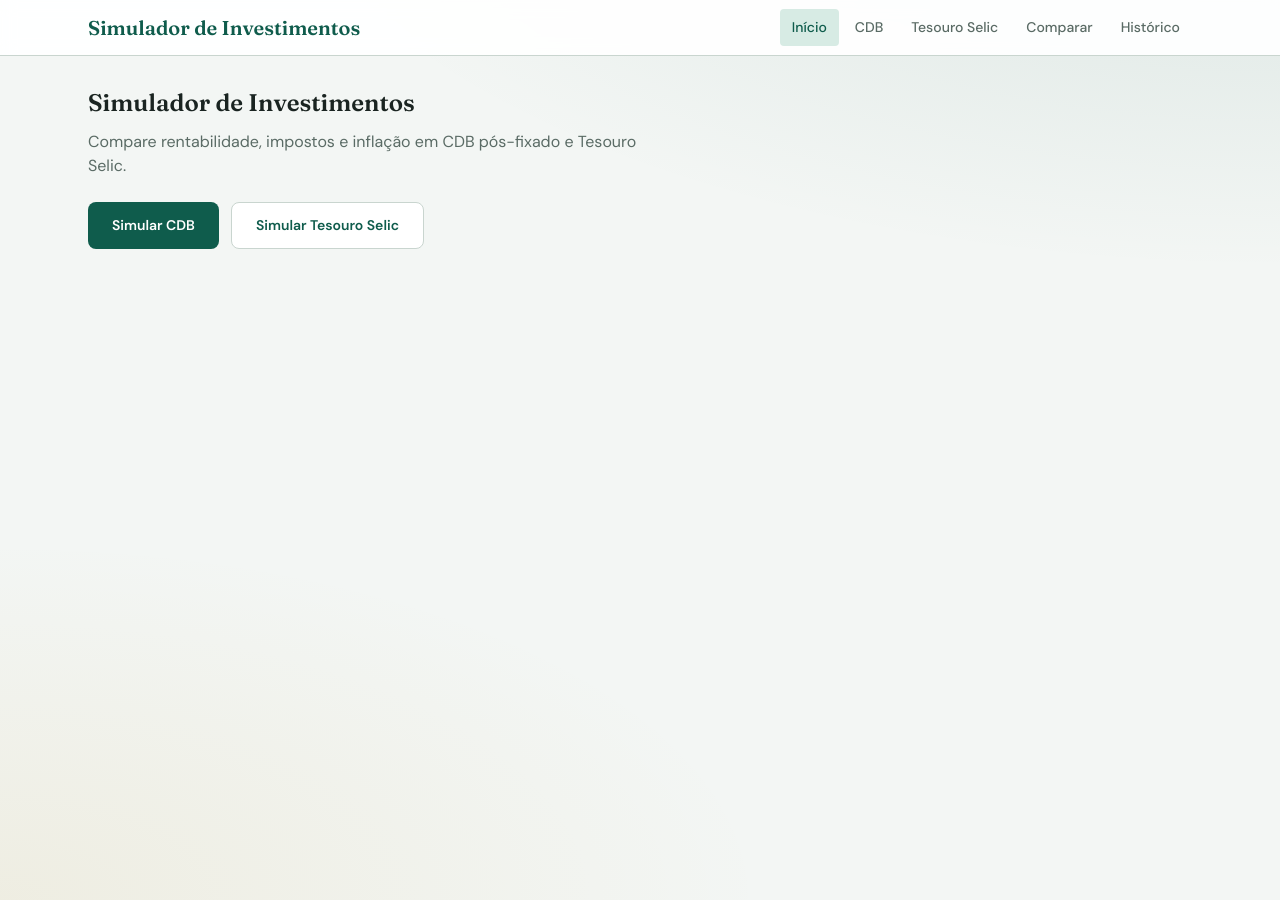
Scenario: App routing › navigates to the CDB stub page
Click the link "Simular CDB": (153,226) [88,202,219,249]
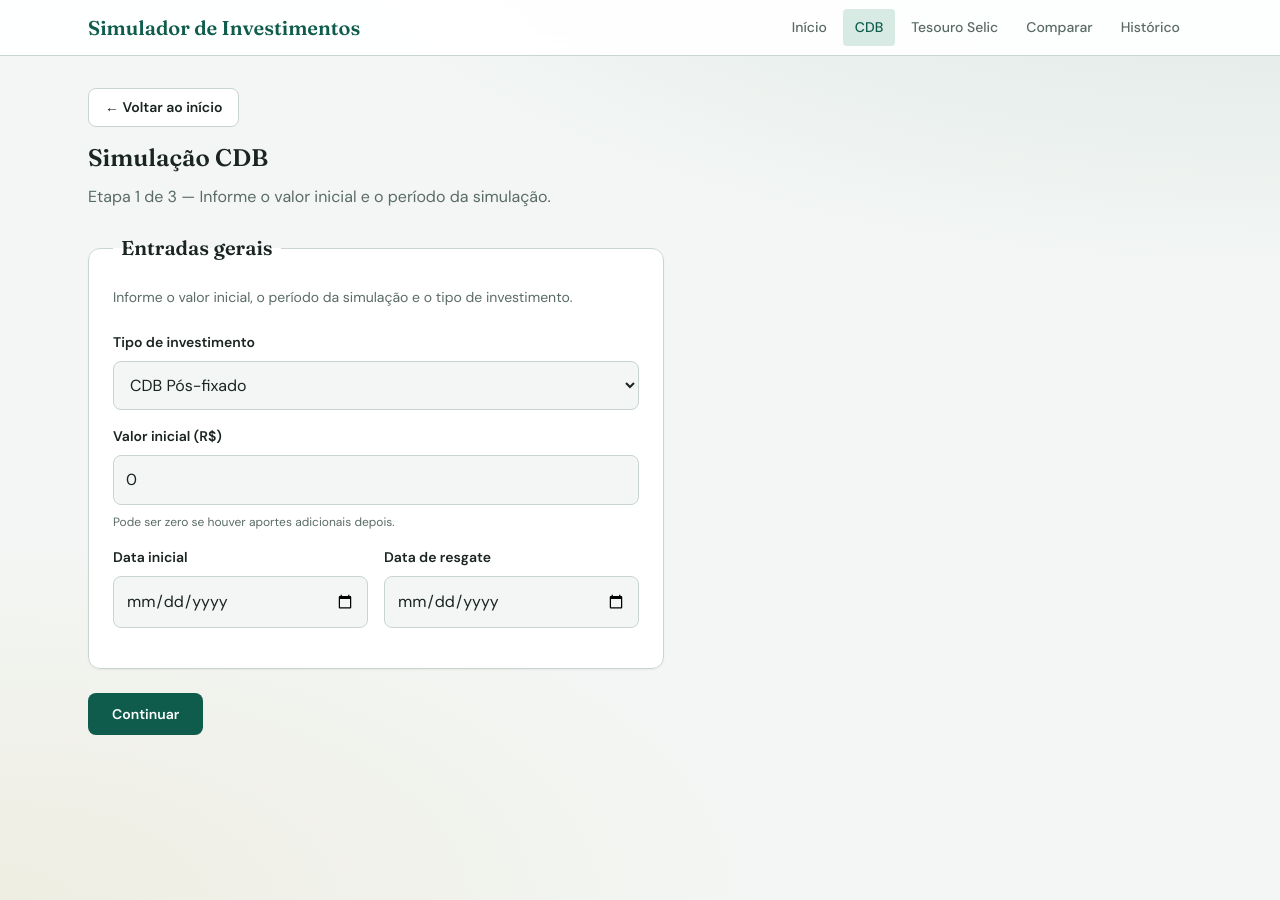
Expected: the heading "Simulação CDB" is shown, [88,143,268,172]
